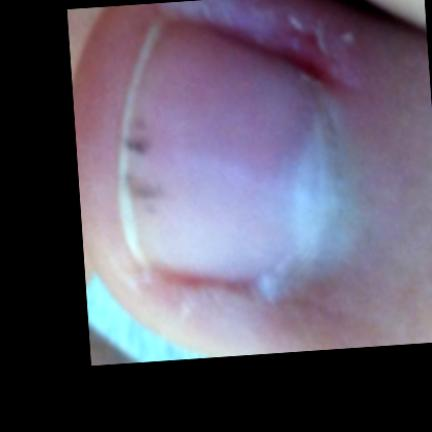Nail: (115, 18, 329, 285)
